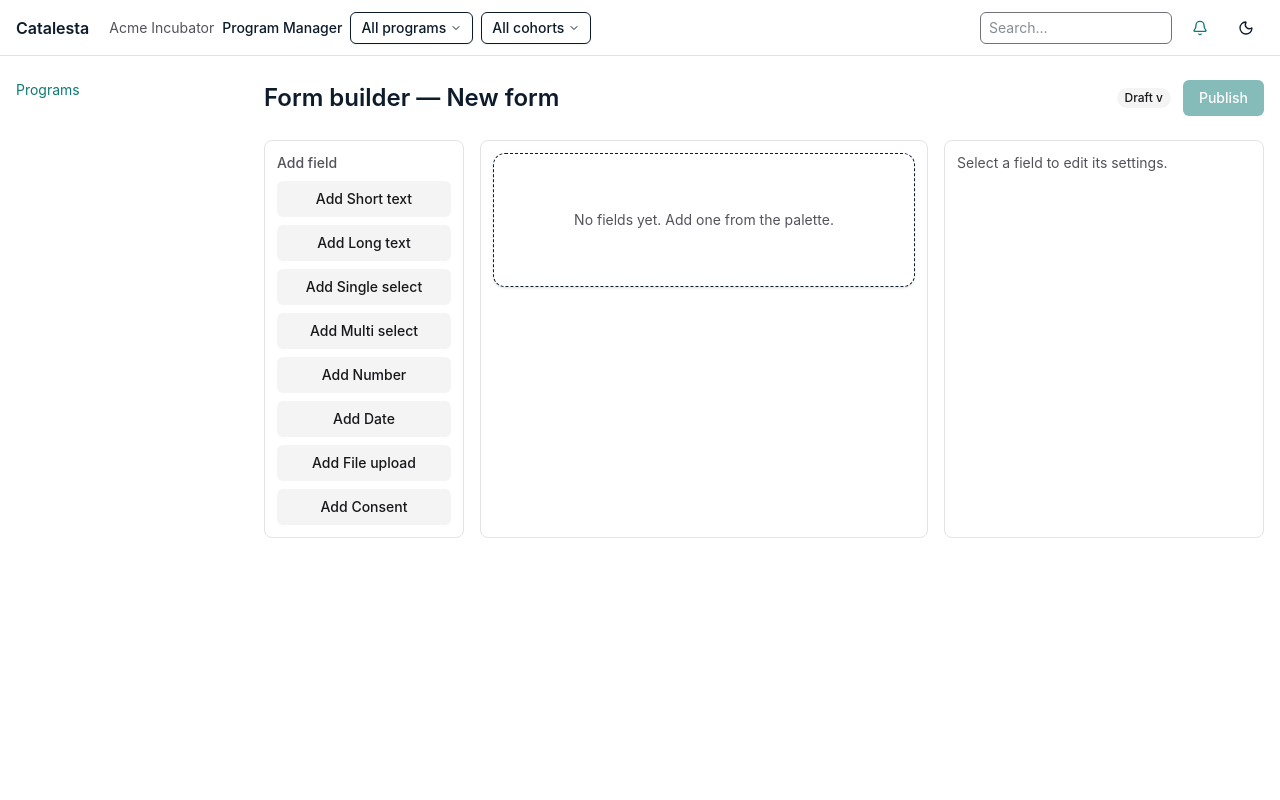
Test: inspector label edit updates the canvas label and flows through updateFields
This screenshot has width=1280, height=800.
Expected: the heading "Form builder — New form" is shown, [264,82,559,114]
Note: Add a short text field
Click the button "Add Short text" at (364, 199), box [277,181,451,217]
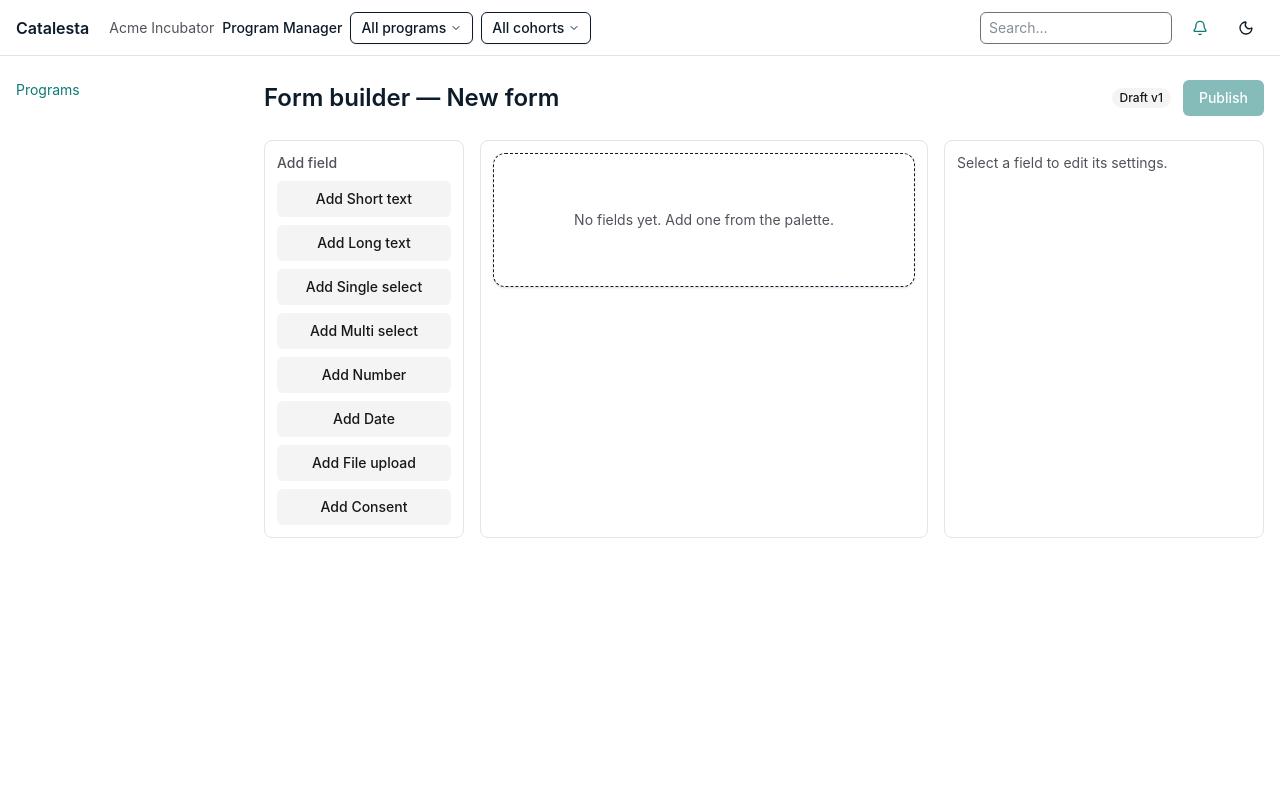
Note: Click the field row to select it (the field row button shows the label)
Click the button "Add Short text" at (364, 199), box [277,181,451,217]
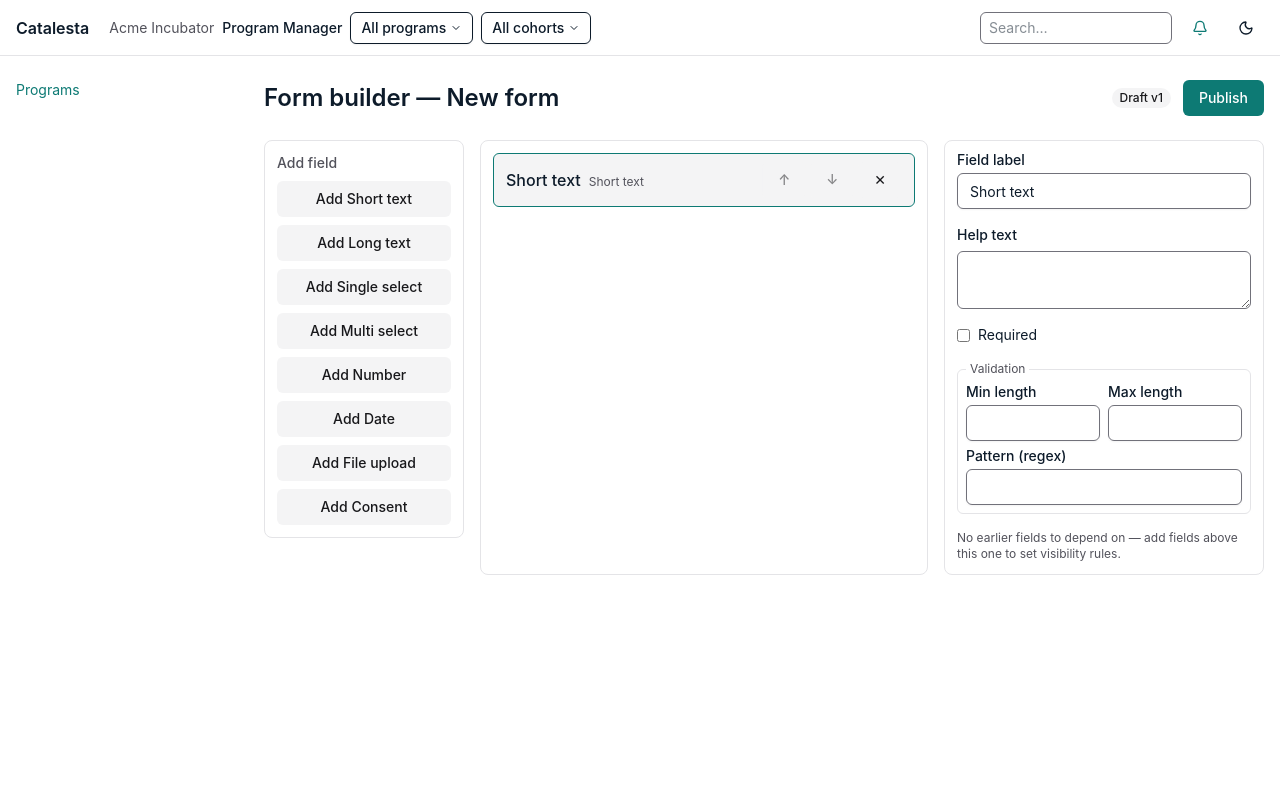
Note: Inspector should now be visible — change the label
Replace the text in the field labelled "Field label" with "Your email" at (1104, 191), box [957,173,1251,209]
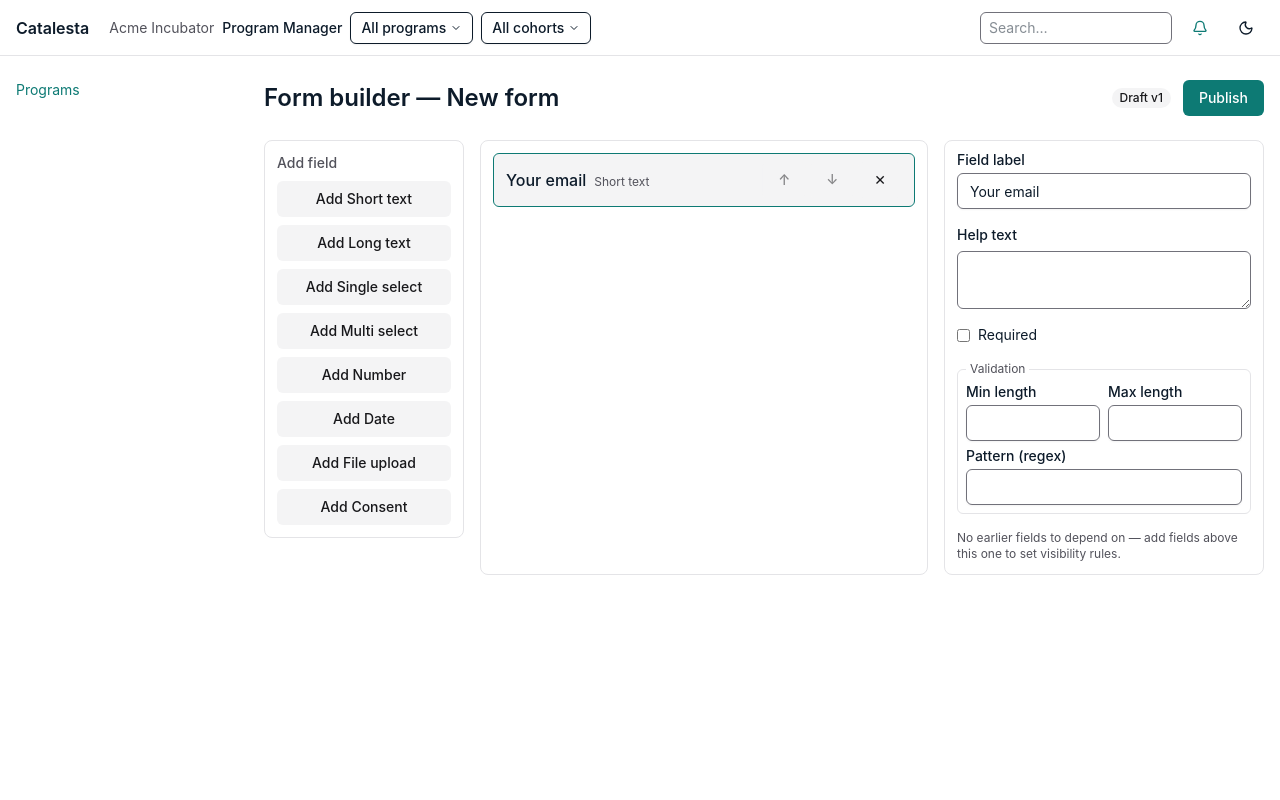
Now the text "Your email" is shown, box [506,170,586,190]
